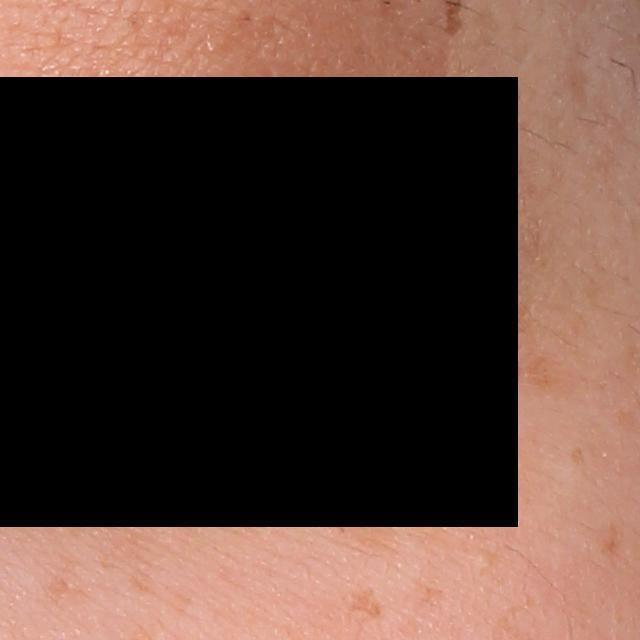comedo: (466, 544, 499, 571)
melasma: (52, 504, 160, 598), (327, 500, 402, 569), (518, 352, 561, 394), (42, 571, 93, 605), (342, 583, 383, 617), (412, 575, 444, 613), (598, 516, 624, 558), (564, 443, 587, 472)
